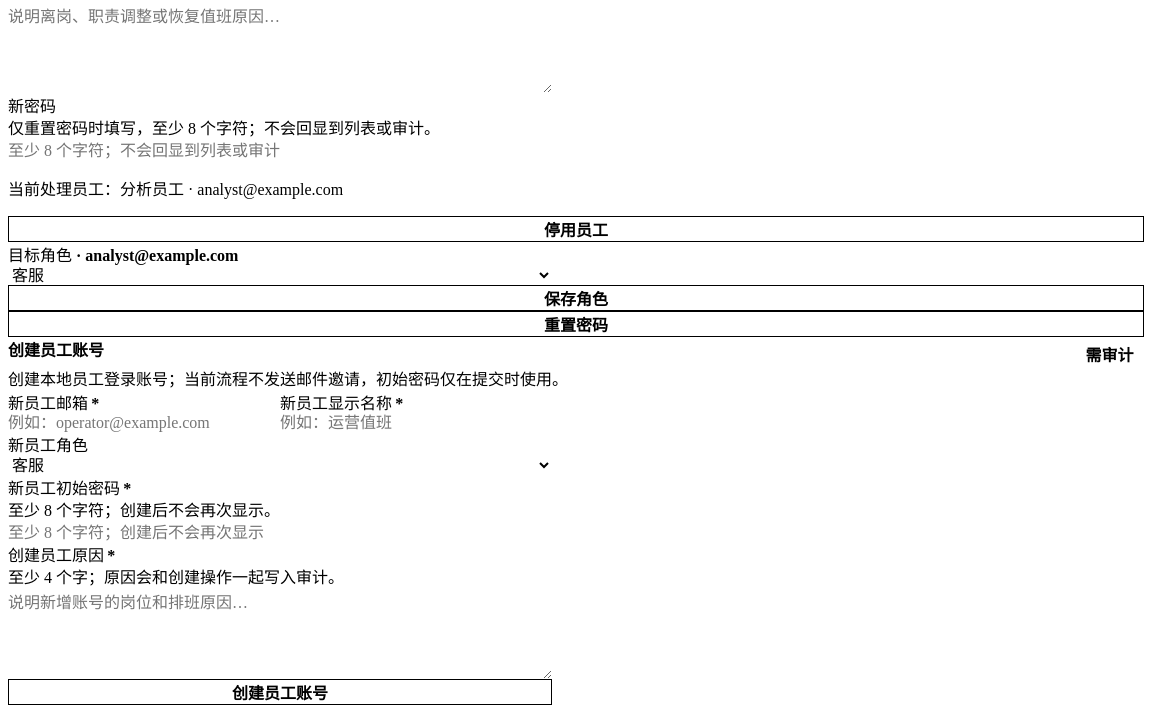
Test: AdminStaffSurface › creates a staff account with an audited reason
(page scrolled)
In the field labelled "新员工邮箱": (144,423) [8,414,280,432], type "new-operator@example.com"
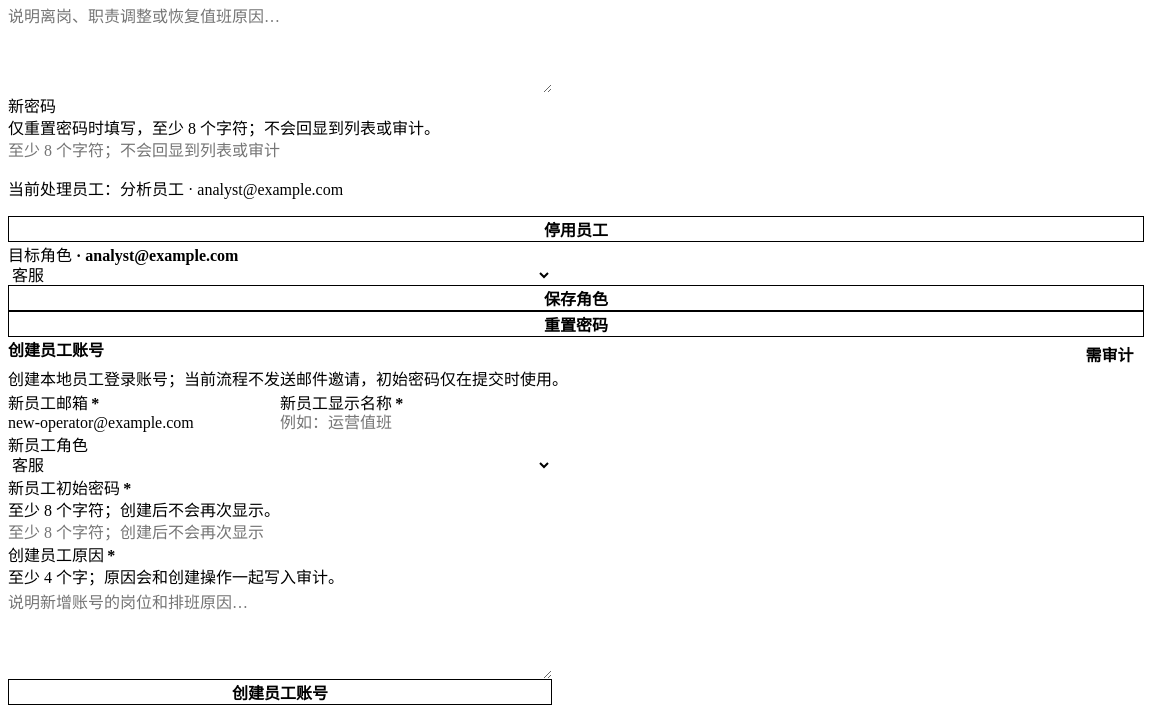
In the field labelled "新员工显示名称": (416,423) [280,414,552,432], type "新运营"
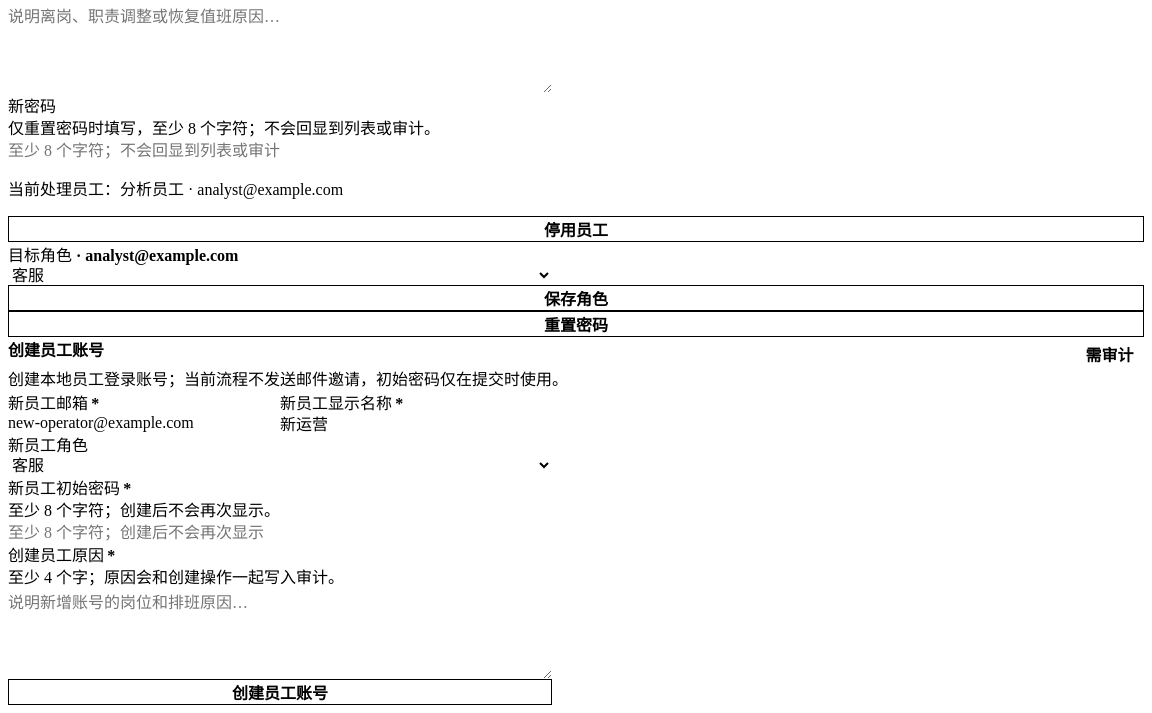
Select "运营" in the dropdown labelled "新员工角色": (280,466) [8,456,552,475]
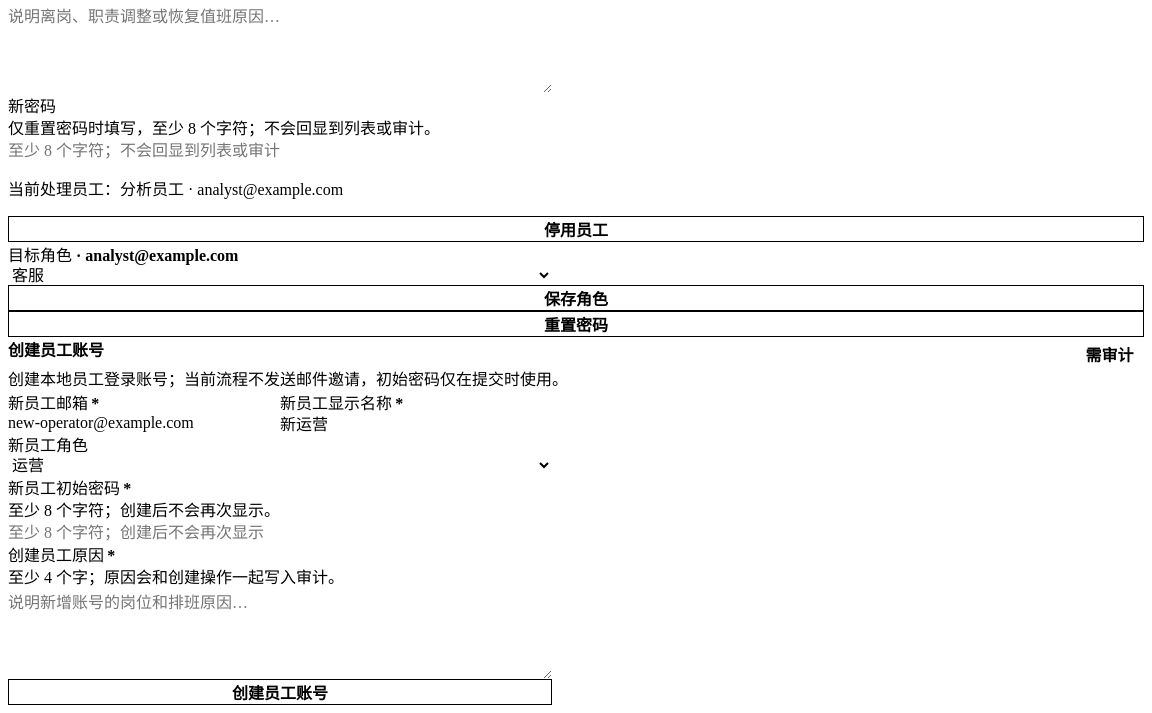
In the password field labelled "新员工初始密码": (280,533) [8,524,552,542], type "initial-password-123"
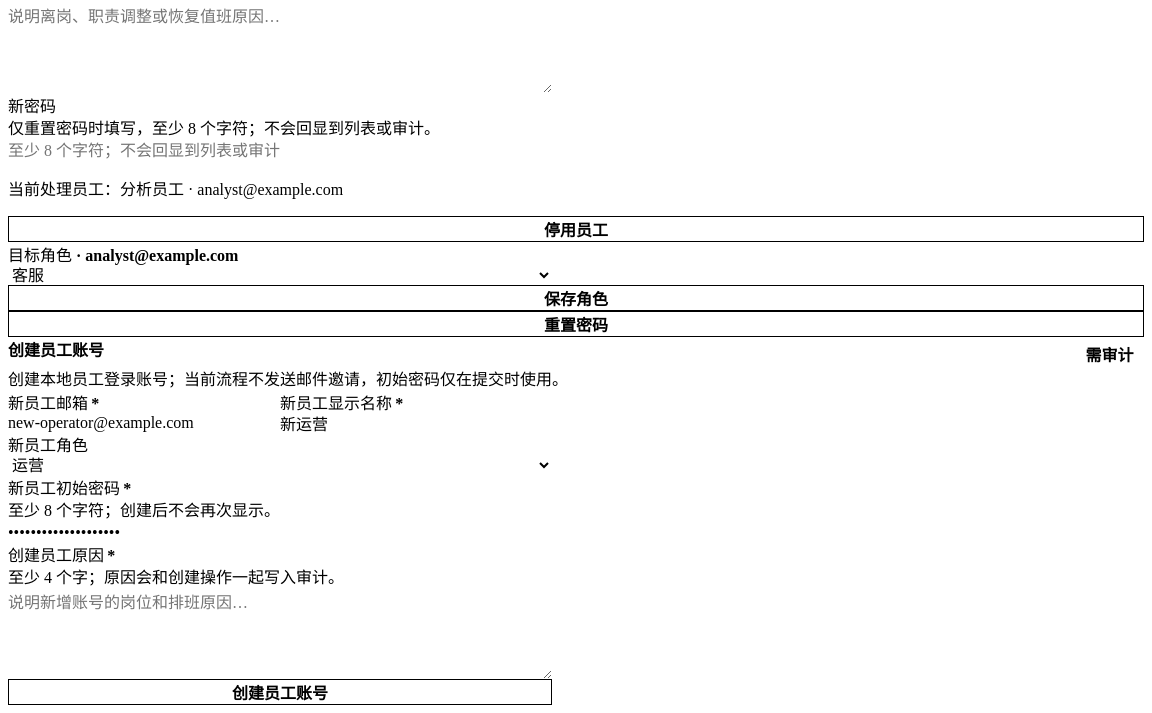
In the text box labelled "创建员工原因": (280,635) [8,591,552,679], type "补充运营值班"
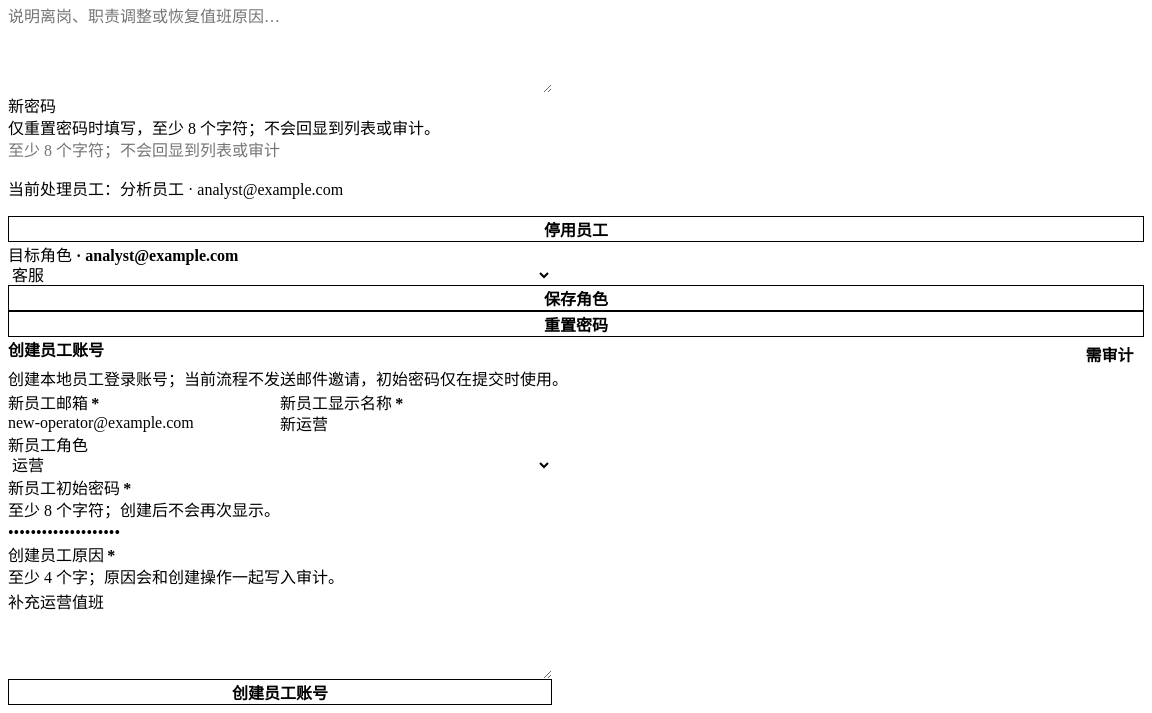
Click the button "创建员工账号": (280,692) [8,679,552,705]
(page scrolled)
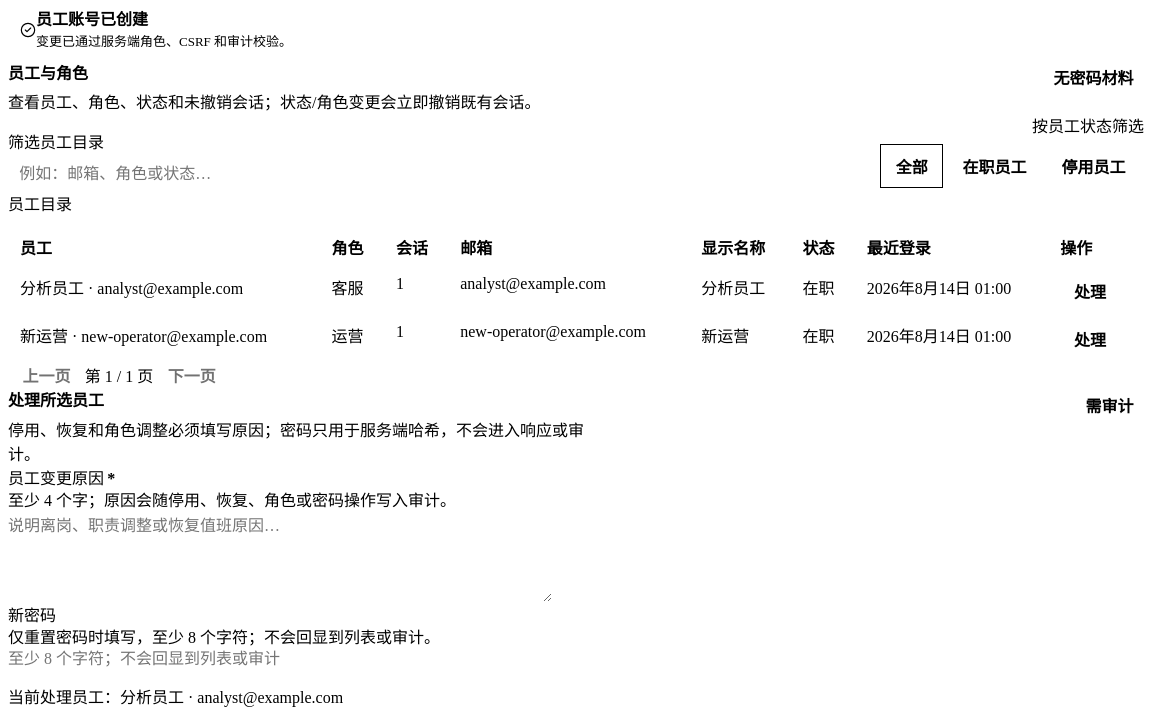
Result: the heading "员工账号已创建" is shown at [36,11,148,28]
